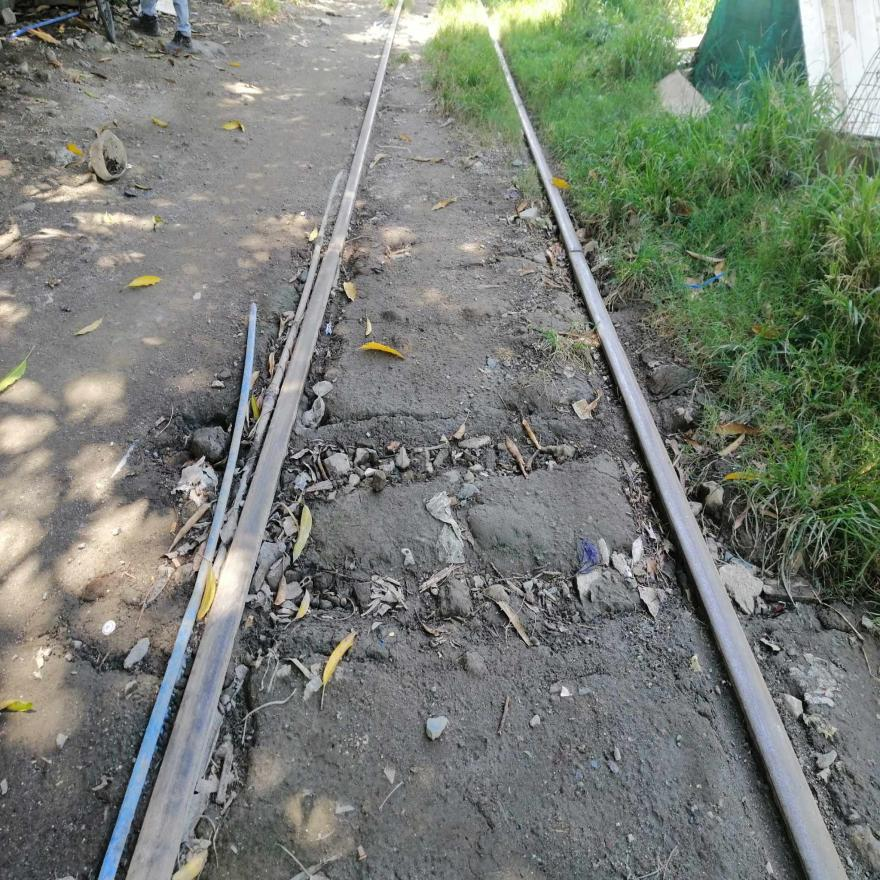railway-gap: (551, 229, 599, 278)
